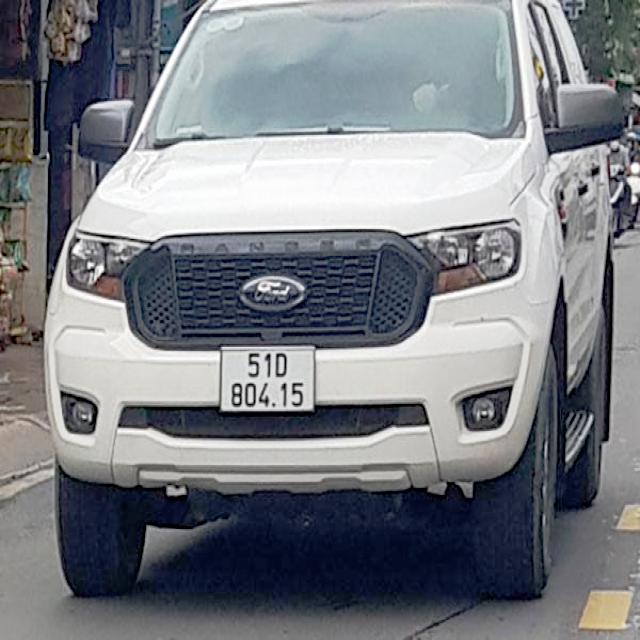license_plate: (221, 350, 317, 414)
